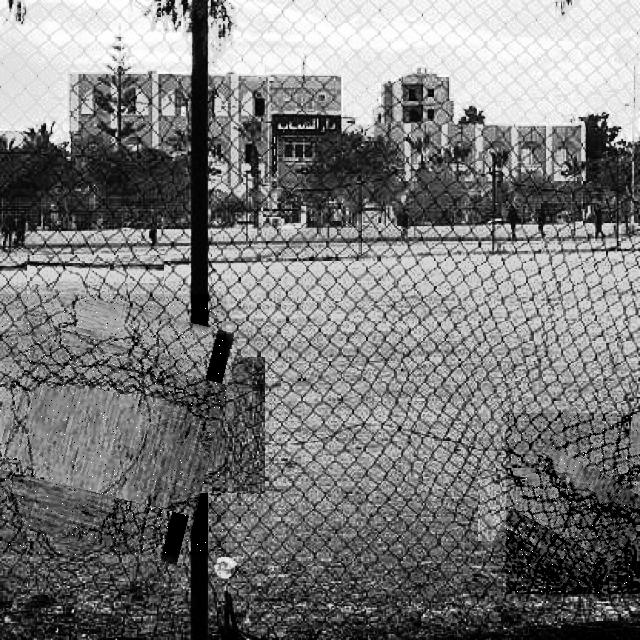anomaly-fence: (0, 294, 226, 555), (506, 413, 640, 594)
